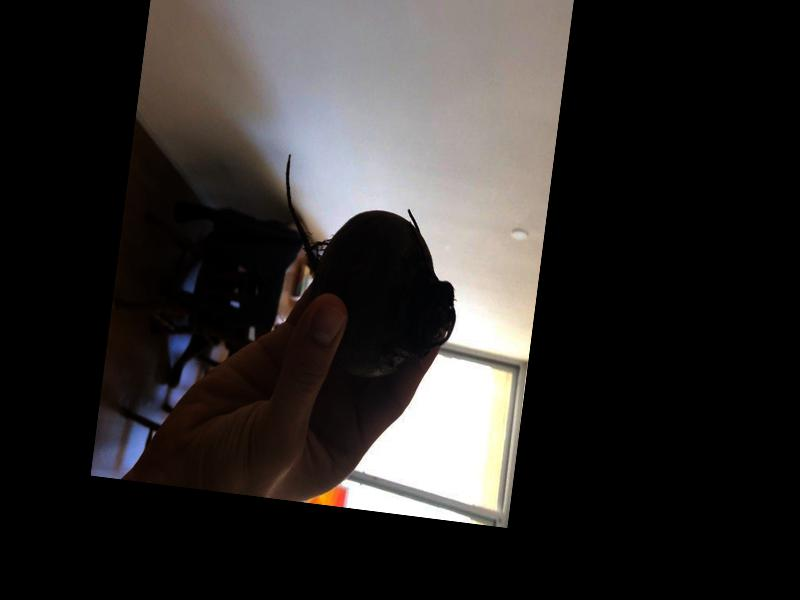Beet: (262, 152, 473, 386)
